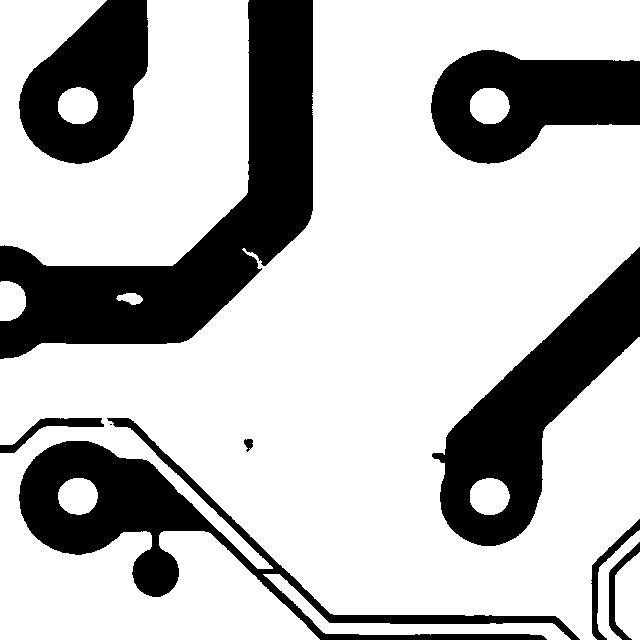copper: (234, 429, 262, 461)
mousebite: (232, 238, 278, 278)
open: (91, 405, 124, 439)
pin-hole: (106, 283, 152, 314)
short: (247, 558, 290, 583)
spur: (422, 443, 460, 472)
